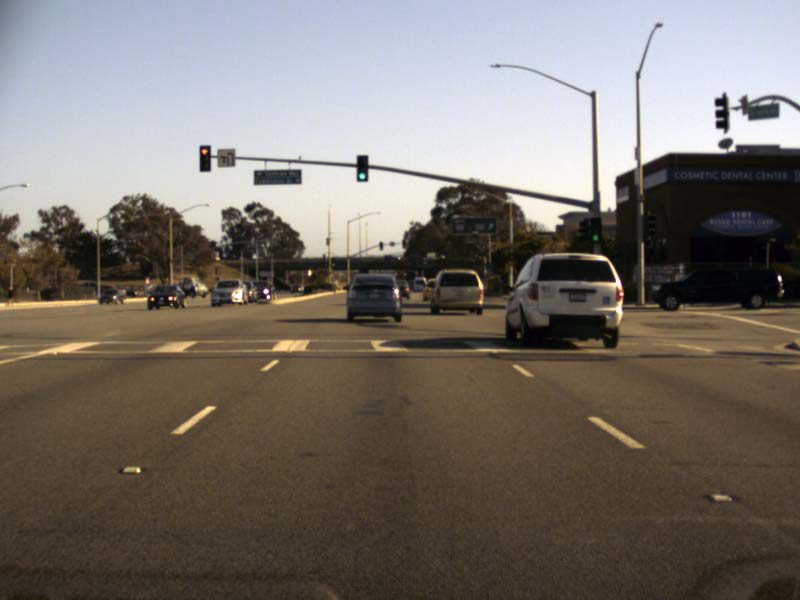Green: (356, 154, 367, 181), (589, 217, 600, 243), (331, 258, 335, 267), (401, 240, 405, 248)
Red: (199, 145, 209, 171)
